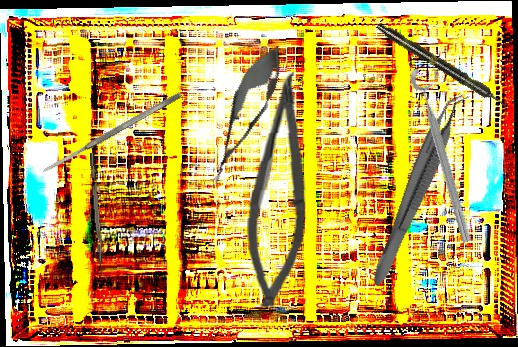Chopper: (89, 152, 110, 280)
Fixation Ring: (407, 63, 487, 245)
Handpiece: (374, 19, 509, 112)
Micro Scissor: (244, 70, 311, 310), (197, 38, 294, 191)
Spatula Surgical: (40, 90, 183, 176)
Tissue Forceps: (367, 85, 471, 293)
